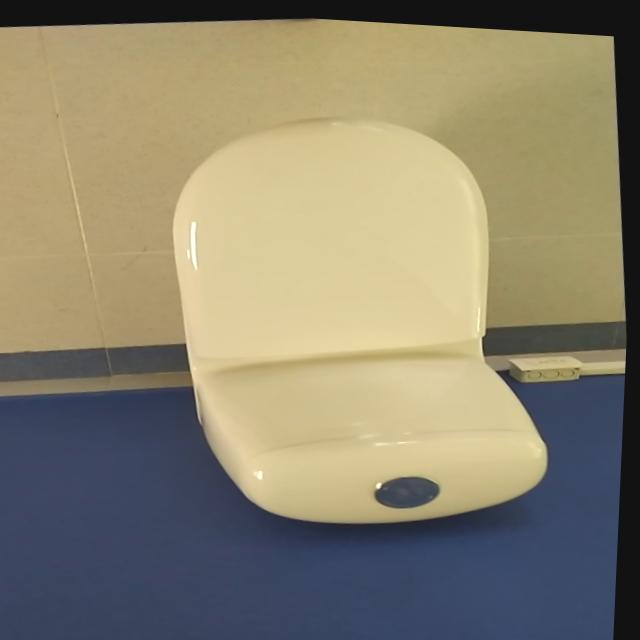toilet: (147, 81, 579, 550)
